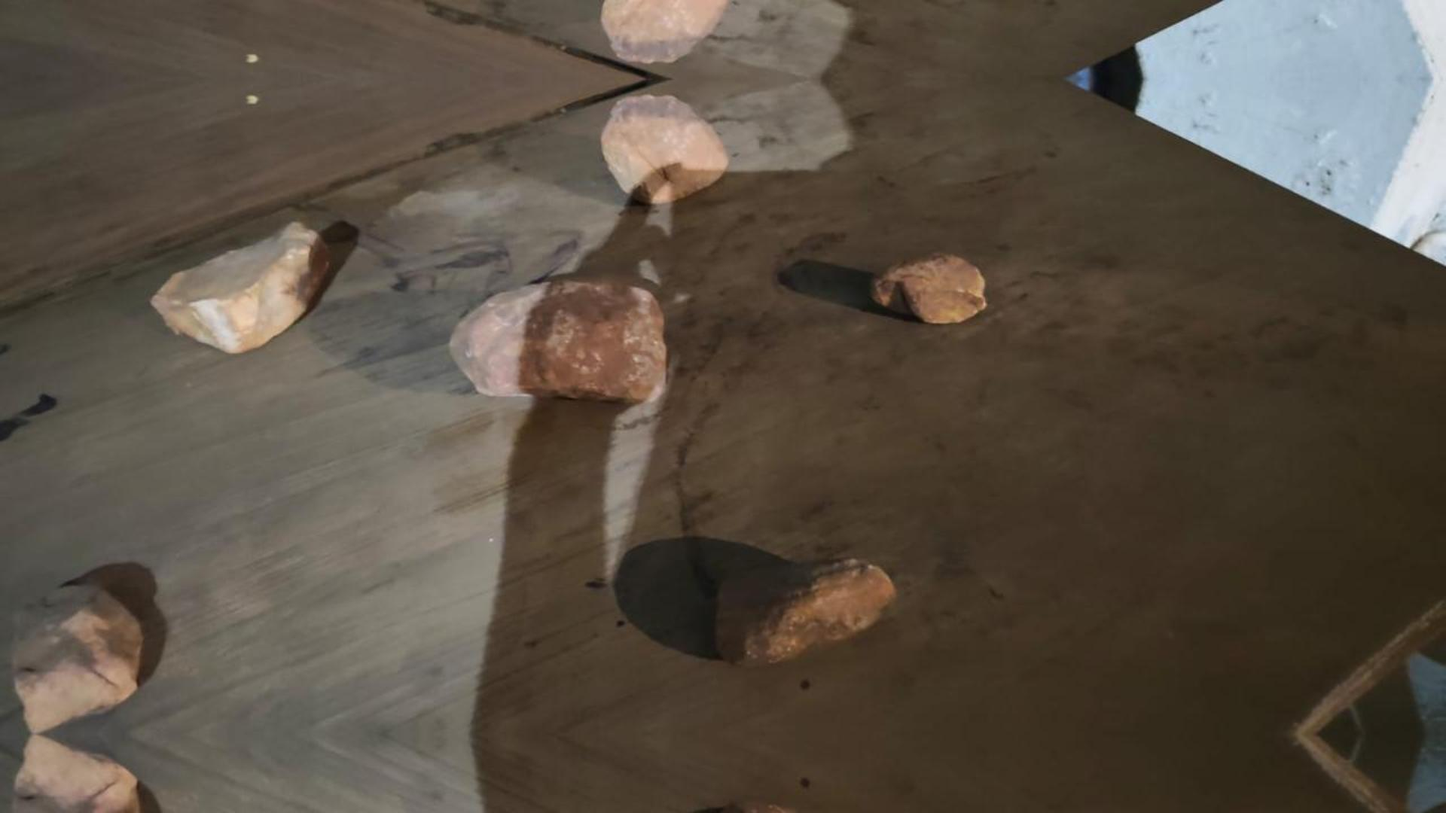rock: (450, 280, 665, 401), (150, 222, 330, 352), (12, 585, 141, 732), (716, 559, 896, 663), (601, 95, 729, 203), (12, 734, 139, 812), (872, 253, 985, 323), (601, 0, 728, 62), (692, 798, 799, 812)
